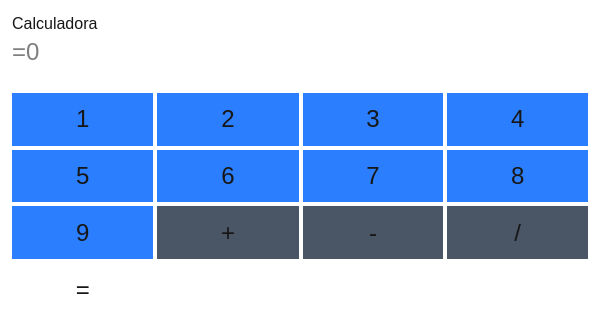
Test: Calc › ao clicar em 9 duas vezes, 99
The width and height of the screenshot is (605, 311).
Expected: the button "8" is shown, [447, 150, 588, 202]
Click the button "9": (83, 233) [12, 206, 153, 259]
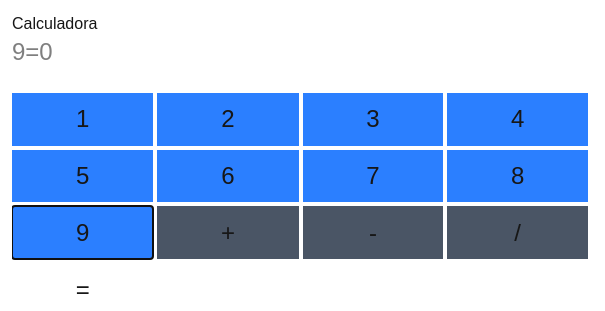
Click the button "9": (83, 233) [12, 206, 153, 259]
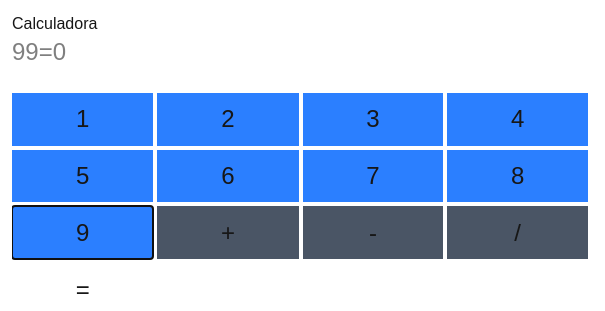
Result: the field with placeholder "99=0" is shown at [12, 36, 322, 68]
